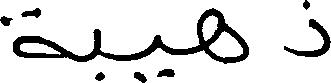X: (0, 3, 64, 62), (198, 3, 247, 68), (285, 0, 330, 61), (154, 30, 162, 81), (93, 24, 100, 82)
